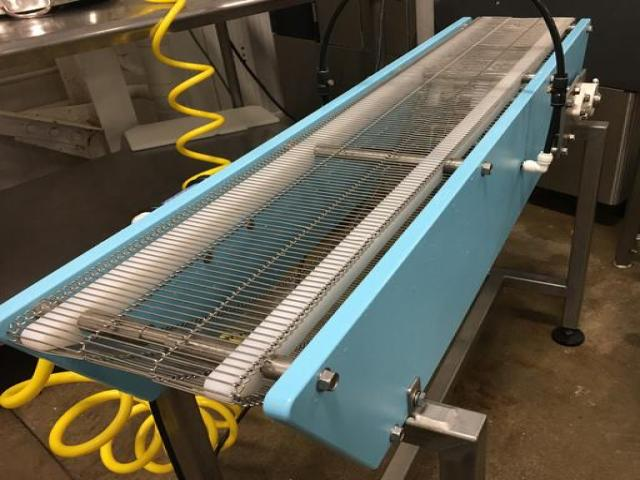conveyor: (0, 18, 610, 479)
